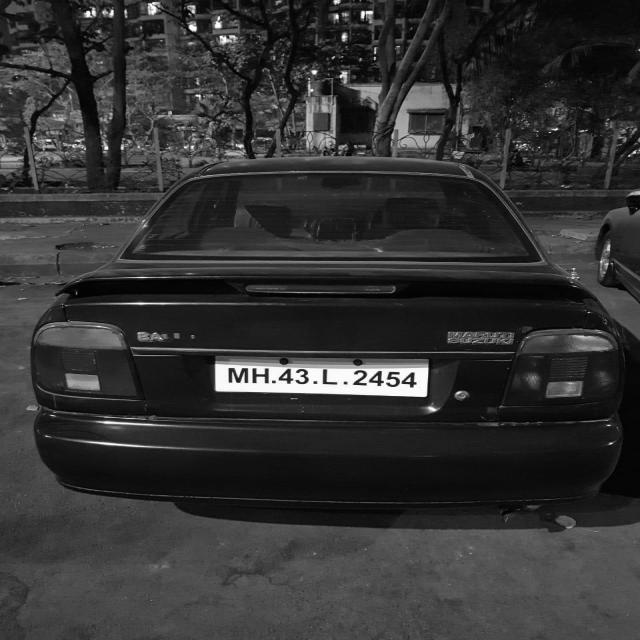car: (0, 150, 640, 512)
license-plate: (217, 342, 430, 410)
